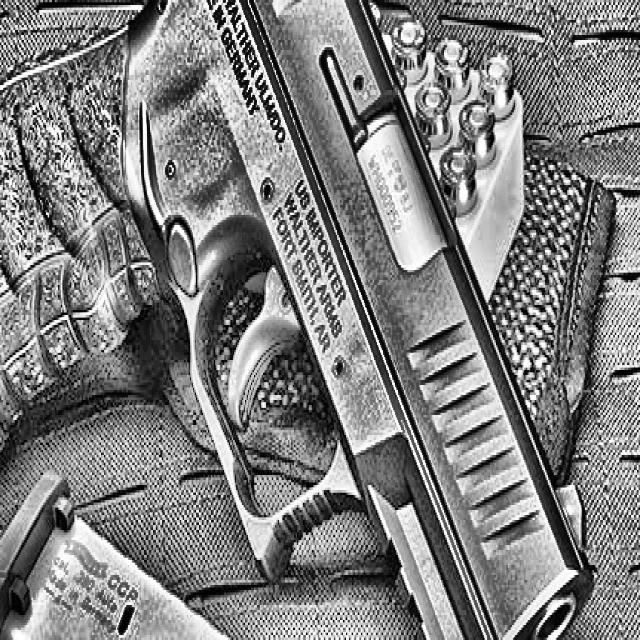Walther: (0, 0, 601, 640)
